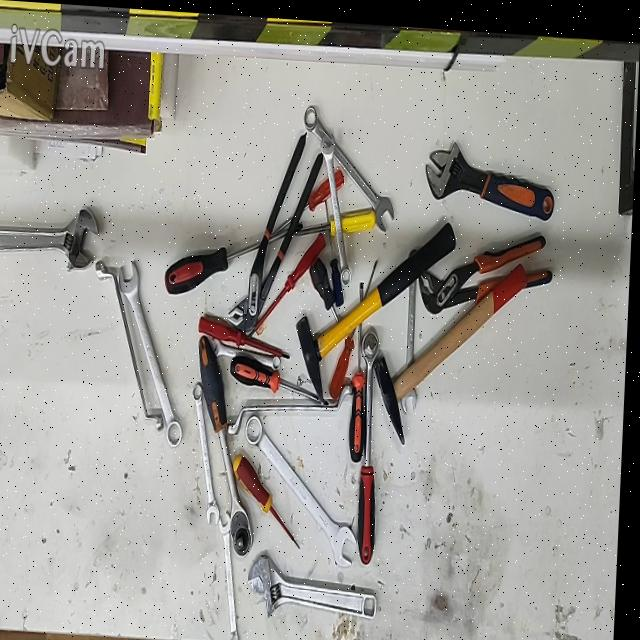Screwdriver: (167, 218, 305, 292), (251, 228, 328, 336), (332, 254, 380, 396), (237, 449, 304, 542), (273, 164, 346, 235), (234, 353, 332, 400), (201, 313, 293, 355), (353, 276, 369, 457), (297, 205, 378, 232), (327, 196, 347, 303), (311, 253, 342, 318)
